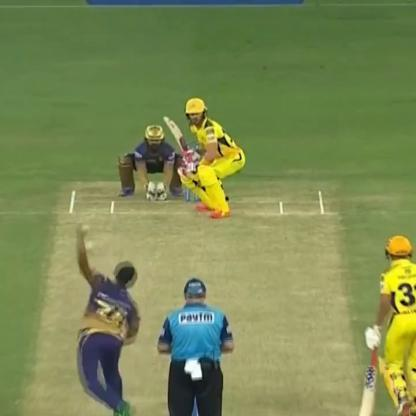ball: (78, 222, 94, 236), (81, 245, 97, 256)
bat: (156, 110, 201, 166), (362, 327, 383, 416)
pitch: (23, 177, 373, 415)
